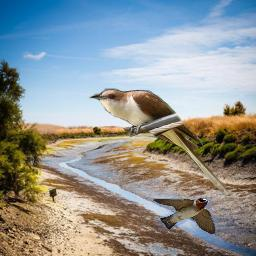Cuckoo: (89, 88, 232, 198)
Swallow: (152, 198, 216, 235)
